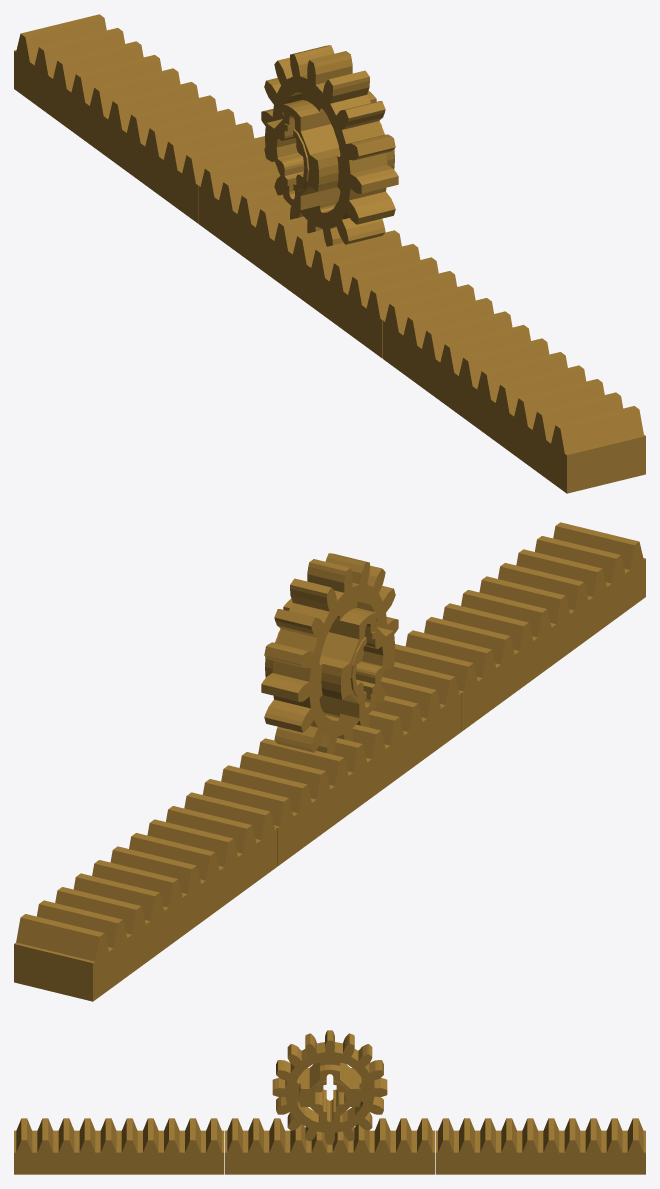
The model's file is RackAndPinion.dae.
The picture shows the model from 3 angles, top to bottom: view 1: azimuth 30°, elevation 25°; view 2: azimuth 150°, elevation 25°; view 3: azimuth 270°, elevation 25°; orthographic projection. The views are drawn at different scales.
Parts seen in each view (by area): view 1: Part_3743.3, Part_3743.4, Part_94925.2, Part_3743.1; view 2: Part_3743.4, Part_3743.3, Part_94925.2, Part_3743.1; view 3: Part_3743.3, Part_3743.4, Part_3743.1, Part_94925.2.
Part boxes in pixels (box(x1,y1,x2,y2)): Part_3743.3: box(383, 284, 645, 493); Part_3743.4: box(14, 14, 265, 223); Part_94925.2: box(261, 45, 398, 246); Part_3743.1: box(198, 154, 457, 358); Part_3743.4: box(14, 792, 276, 1001); Part_3743.3: box(394, 522, 645, 731); Part_94925.2: box(261, 553, 398, 754); Part_3743.1: box(202, 662, 461, 866); Part_3743.3: box(14, 1118, 224, 1174); Part_3743.4: box(435, 1118, 645, 1174); Part_3743.1: box(225, 1118, 434, 1174); Part_94925.2: box(272, 1030, 387, 1144).
Bounding box in the file's own units: 7.92 × 21.5 × 95.92.
